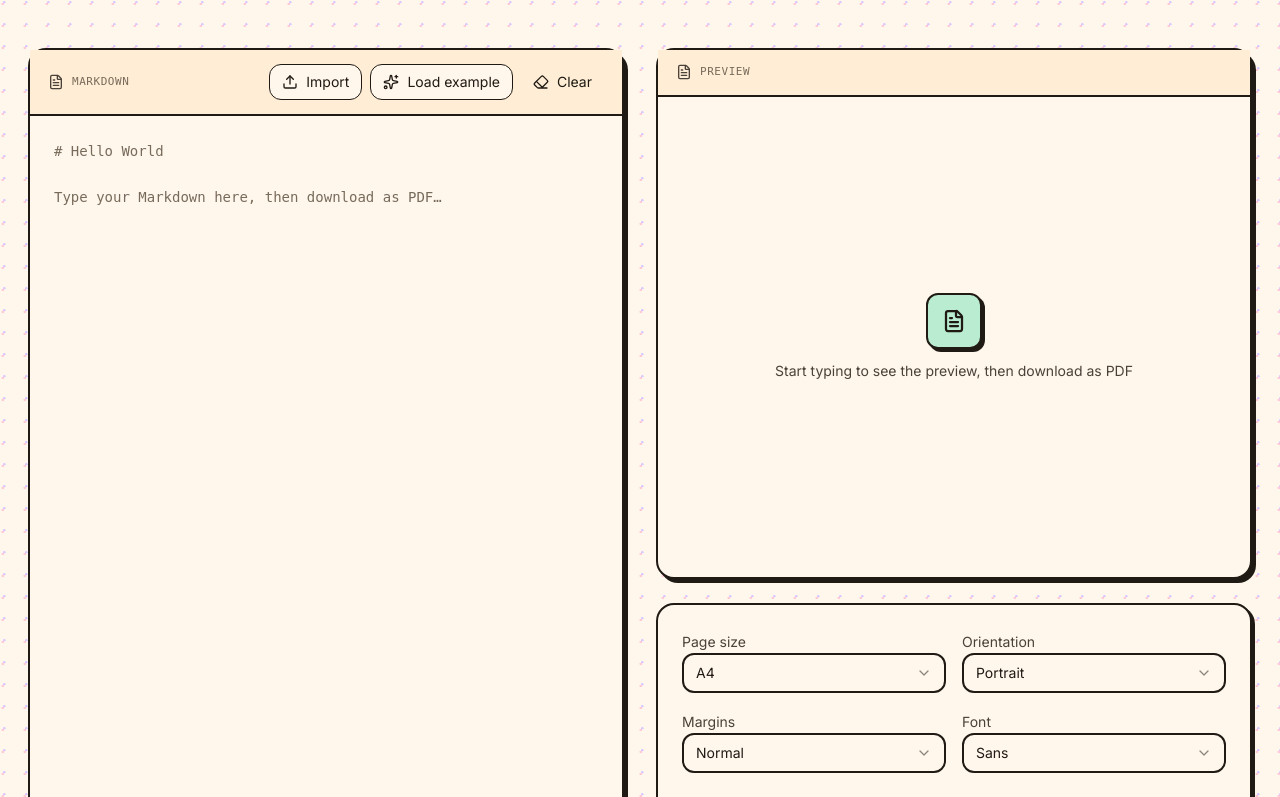
MarkdownToPdfRoute › renders the preview after typing Markdown (debounced)
Step 1. Type "# Hello Heading" into the text box labelled "Markdown" → {"x": 326, "y": 356}, box [30,116,622,596]
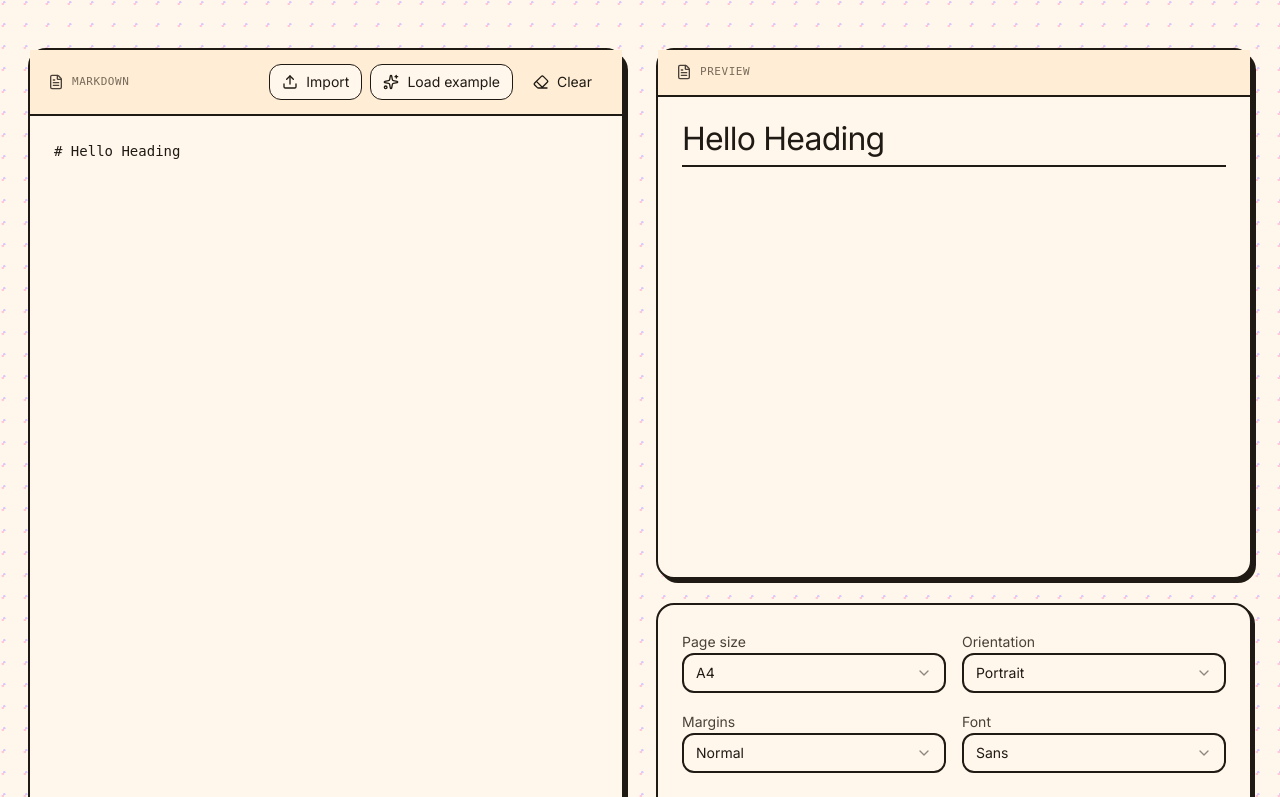
Expected: the heading "Hello Heading" is shown, [682,120,1226,167]
